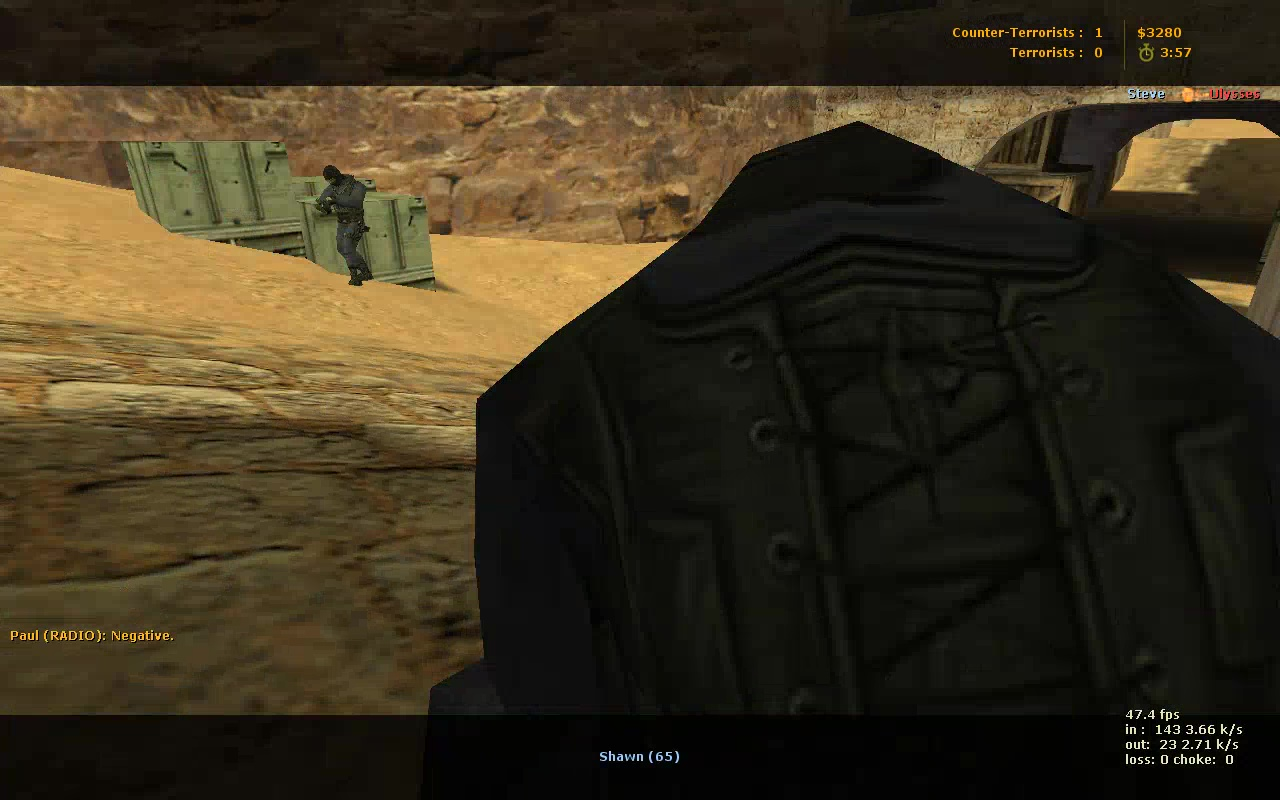ct: (316, 164, 377, 289)
